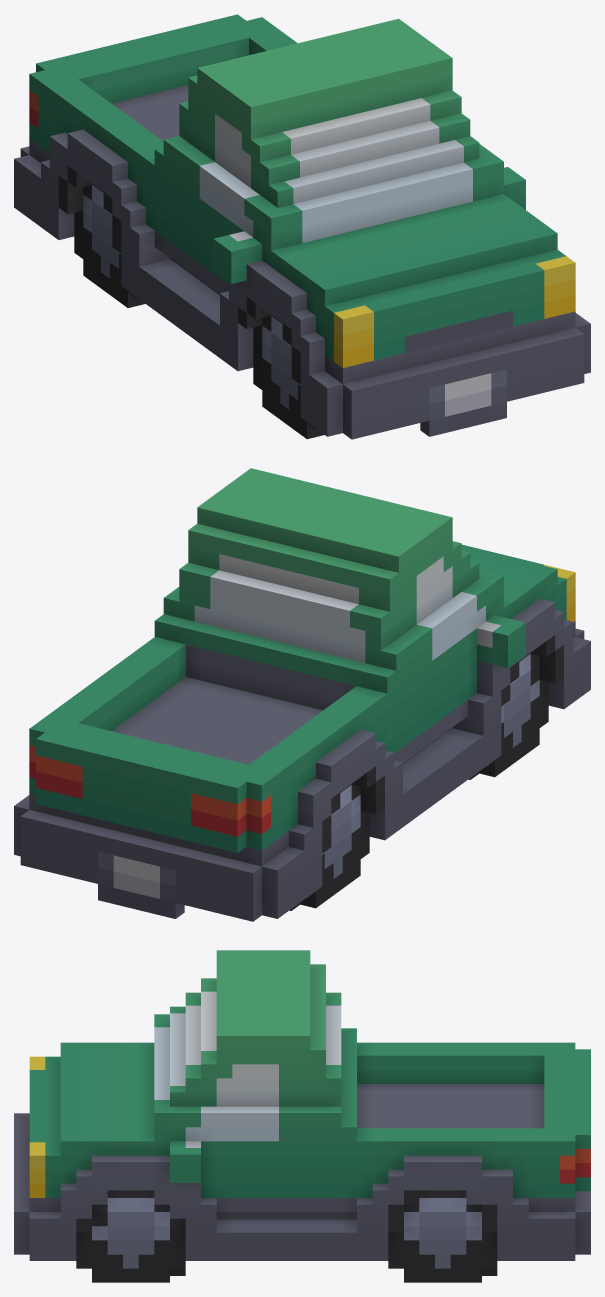
The model's file is truck.glb.
3 views of the same model, one above another, from view 1: azimuth 30°, elevation 25°; view 2: azimuth 150°, elevation 25°; view 3: azimuth 270°, elevation 25° (orthographic). The views are drawn at different scales.
Visible parts, largest first — view 1: voxels; view 2: voxels; view 3: voxels.
Part boxes in pixels (x1,y1,x2,y2): voxels: (14,14,590,439); voxels: (14,468,590,921); voxels: (14,950,590,1282).
Size of the model in its own units: 1.54 by 1.38 by 3.01.
